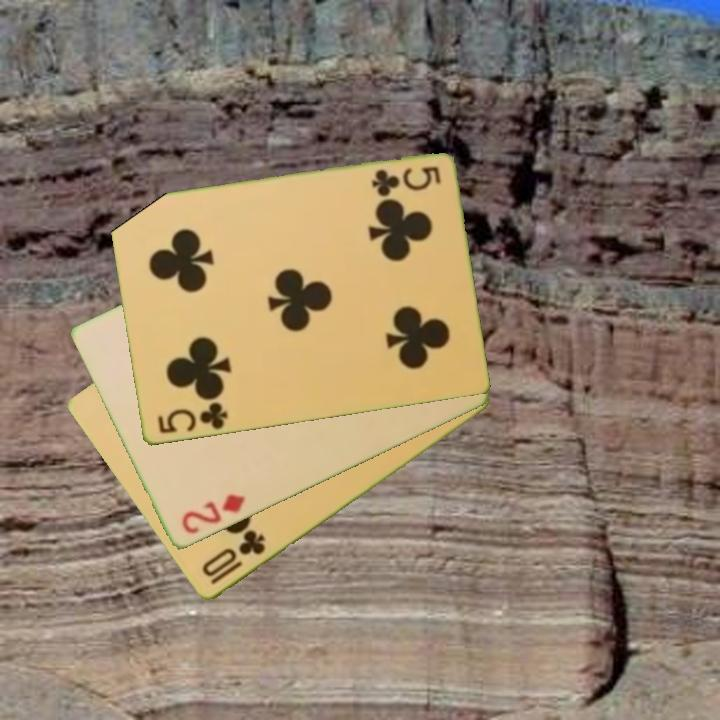10c: (198, 527, 269, 589)
2d: (178, 490, 248, 538)
5c: (153, 399, 230, 437), (367, 163, 444, 199)
